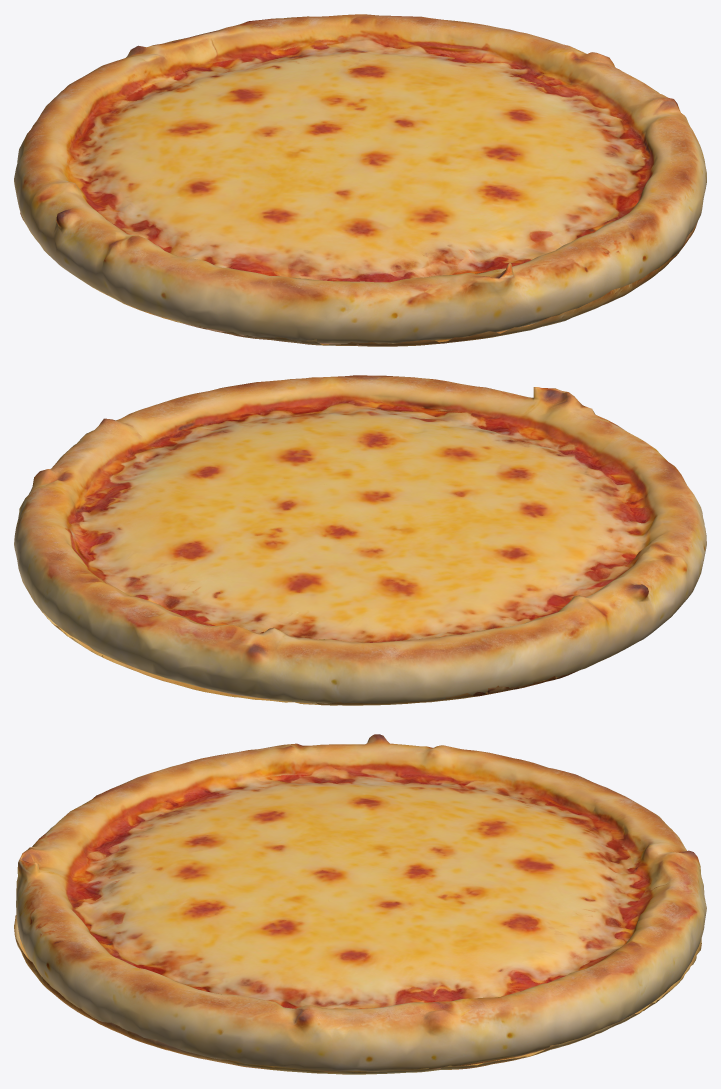
File: Pizza.glb
3 views of the same model, one above another, from view 1: azimuth 30°, elevation 25°; view 2: azimuth 150°, elevation 25°; view 3: azimuth 270°, elevation 25° (orthographic).
Parts seen in each view (by area): view 1: Mesh_0, Mesh_0.003; view 2: Mesh_0, Mesh_0.003; view 3: Mesh_0, Mesh_0.003.
Part boxes in pixels (bbox=[...]): Mesh_0: bbox=[14, 14, 706, 345]; Mesh_0.003: bbox=[20, 212, 697, 346]; Mesh_0: bbox=[14, 375, 706, 703]; Mesh_0.003: bbox=[30, 595, 605, 705]; Mesh_0: bbox=[16, 734, 706, 1072]; Mesh_0.003: bbox=[14, 915, 701, 1074].
Bounding box in the file's own units: 1.99 × 0.2125 × 2.
Materials: 2 (2 with a texture image).
